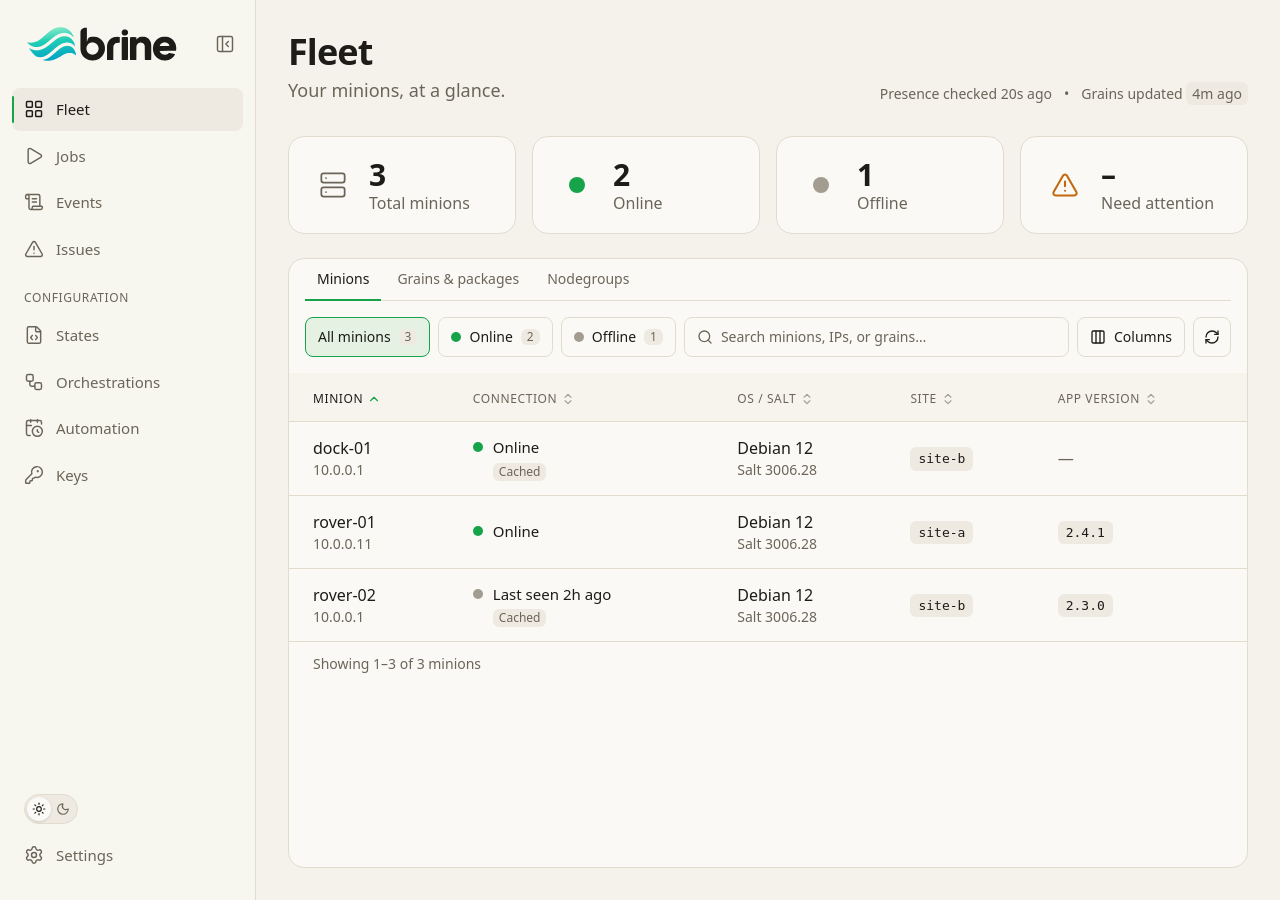
FleetPage › filters by status tab, search, and site
Expected: the link "rover-01" is shown, x1=313 y1=510 x2=376 y2=532
Click the tab "Offline 1" at (618, 337), box x1=561 y1=317 x2=676 y2=357
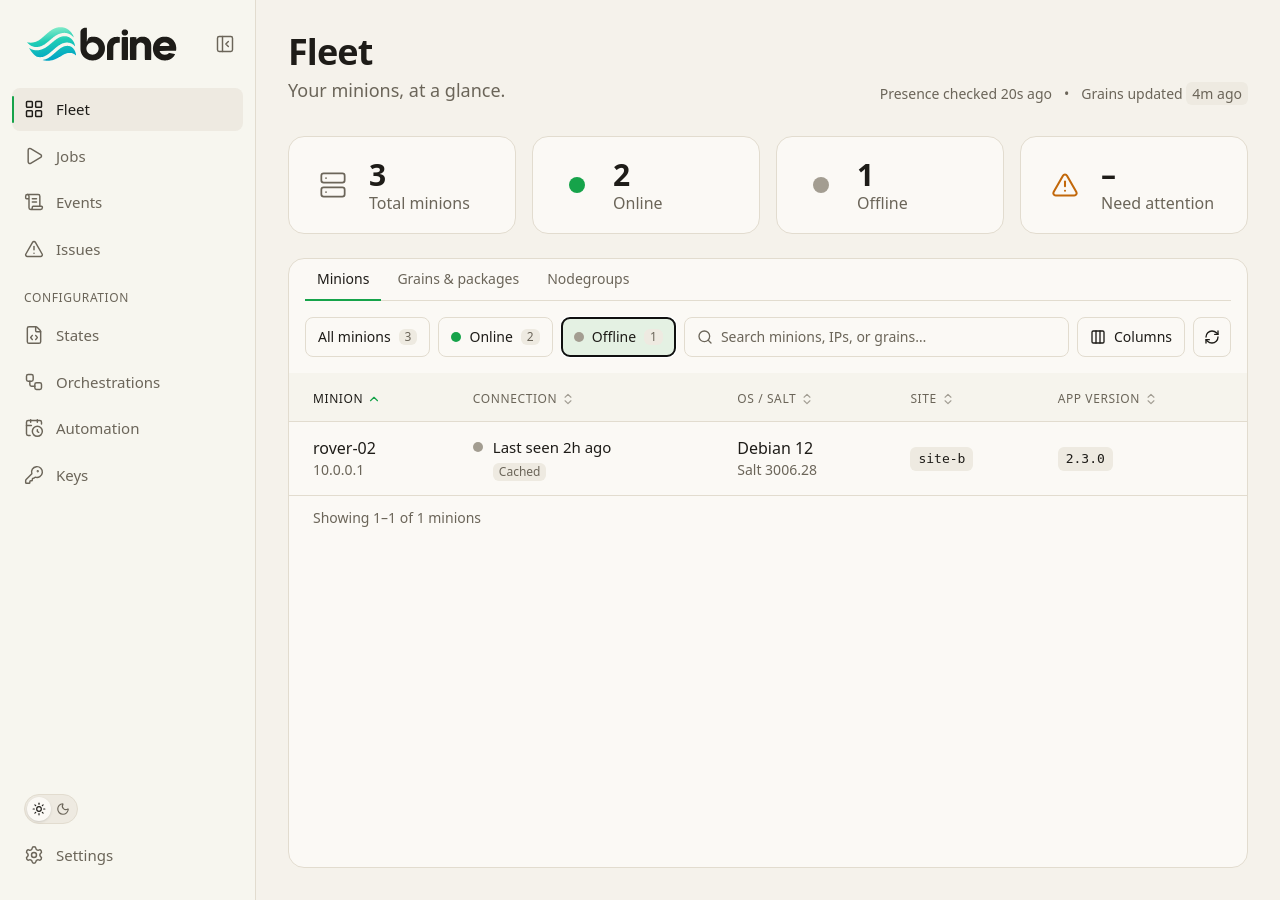
Click the tab "All minions 3" at (368, 337), box x1=305 y1=317 x2=430 y2=357
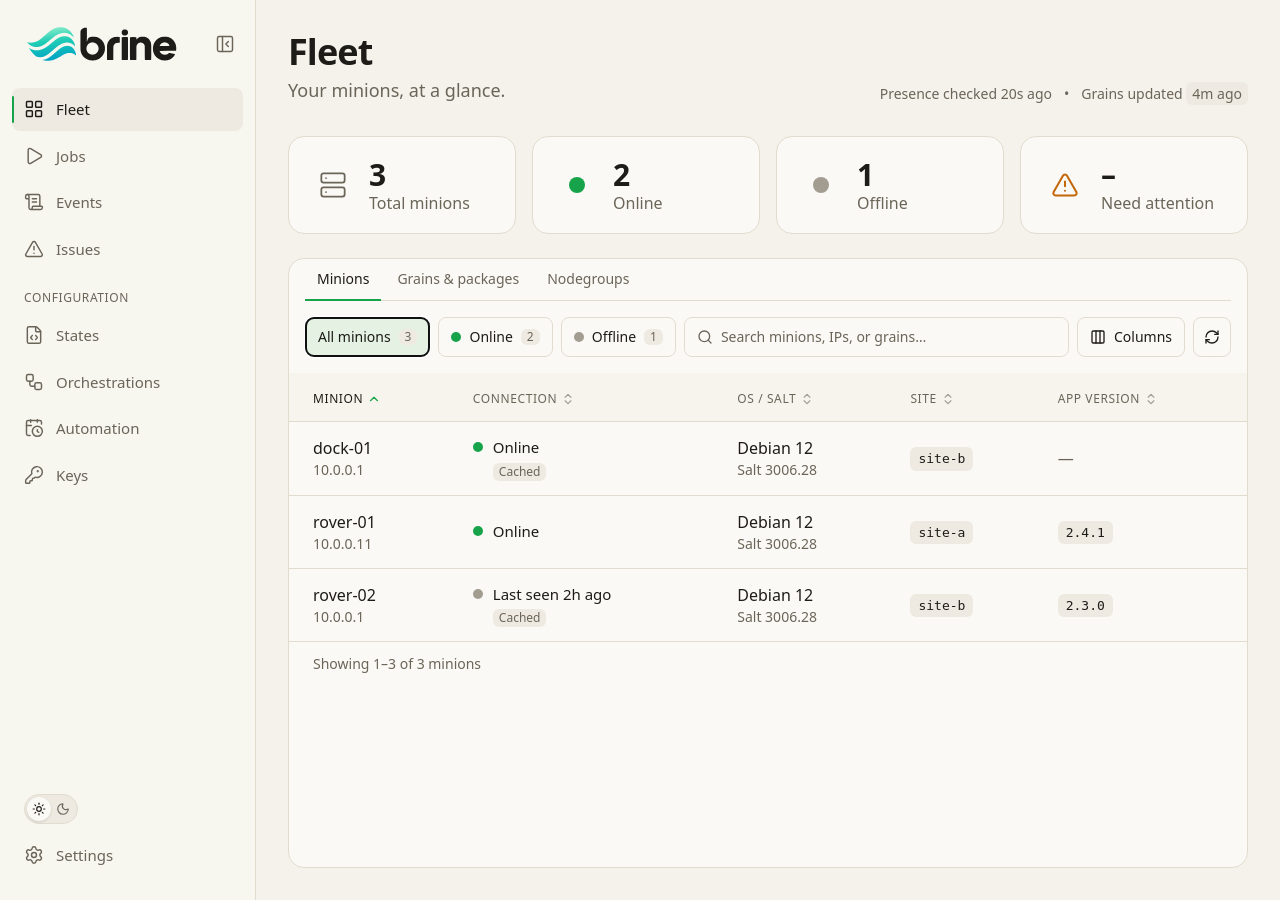
Type "10.0.0.11" into the search field labelled "Search minions" at (888, 337), box x1=721 y1=327 x2=1056 y2=347
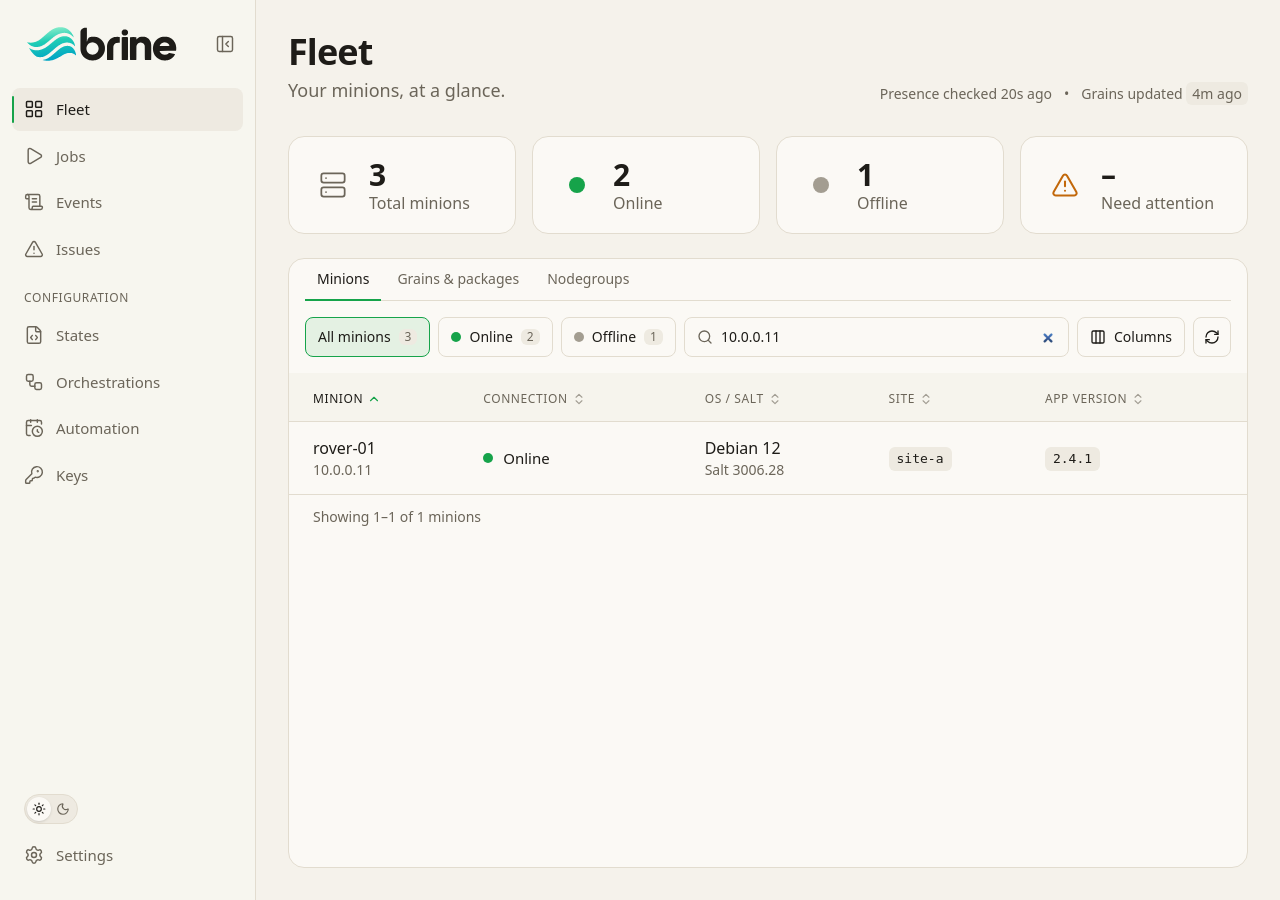
// Grain values are searchable too (there's no separate filter per grain).
Replace the text in the search field named "Search minions" with "site-b" at (888, 337), box x1=721 y1=327 x2=1056 y2=347
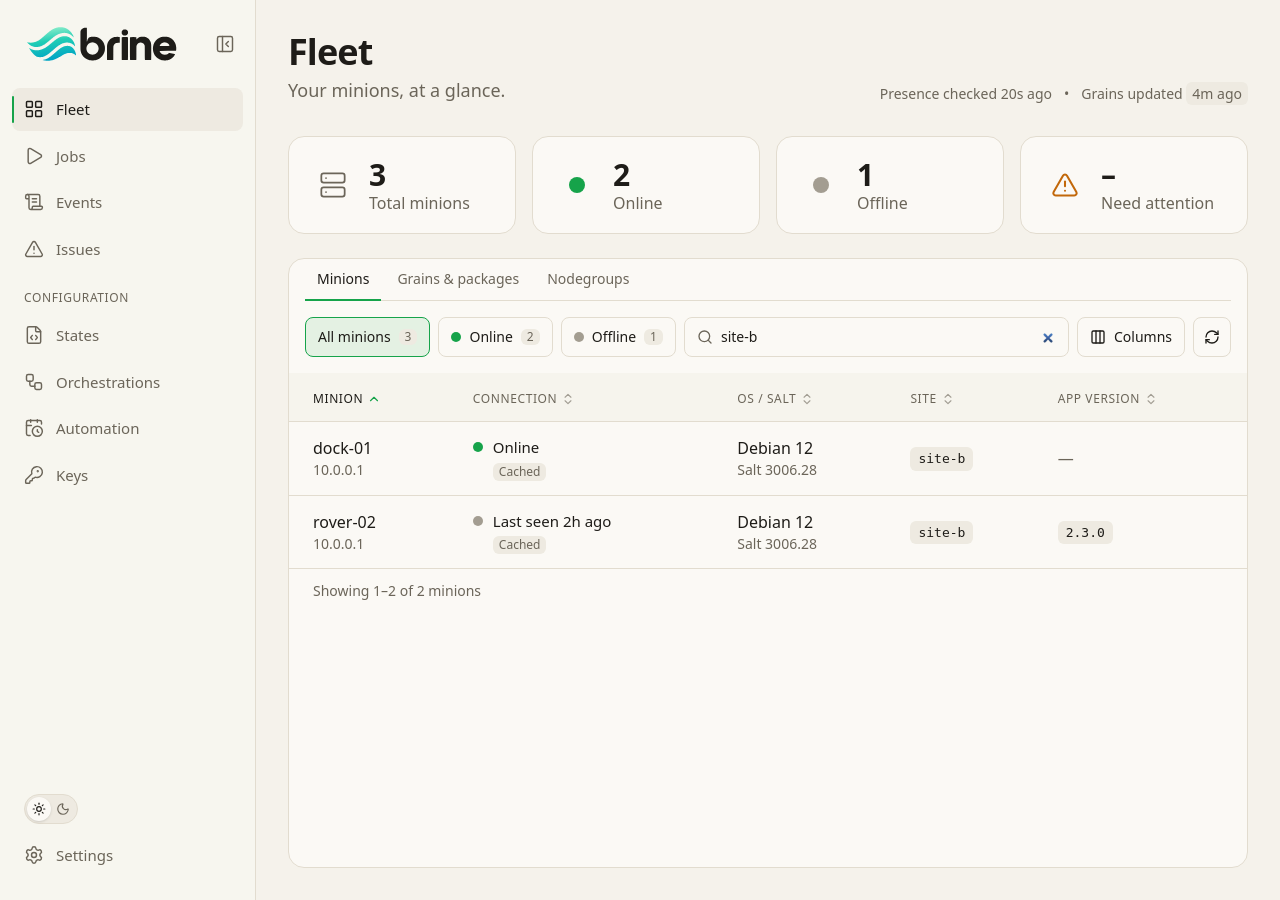
Expected: the text "Showing 1–2 of 2 minions" is shown, x1=313 y1=581 x2=481 y2=601
